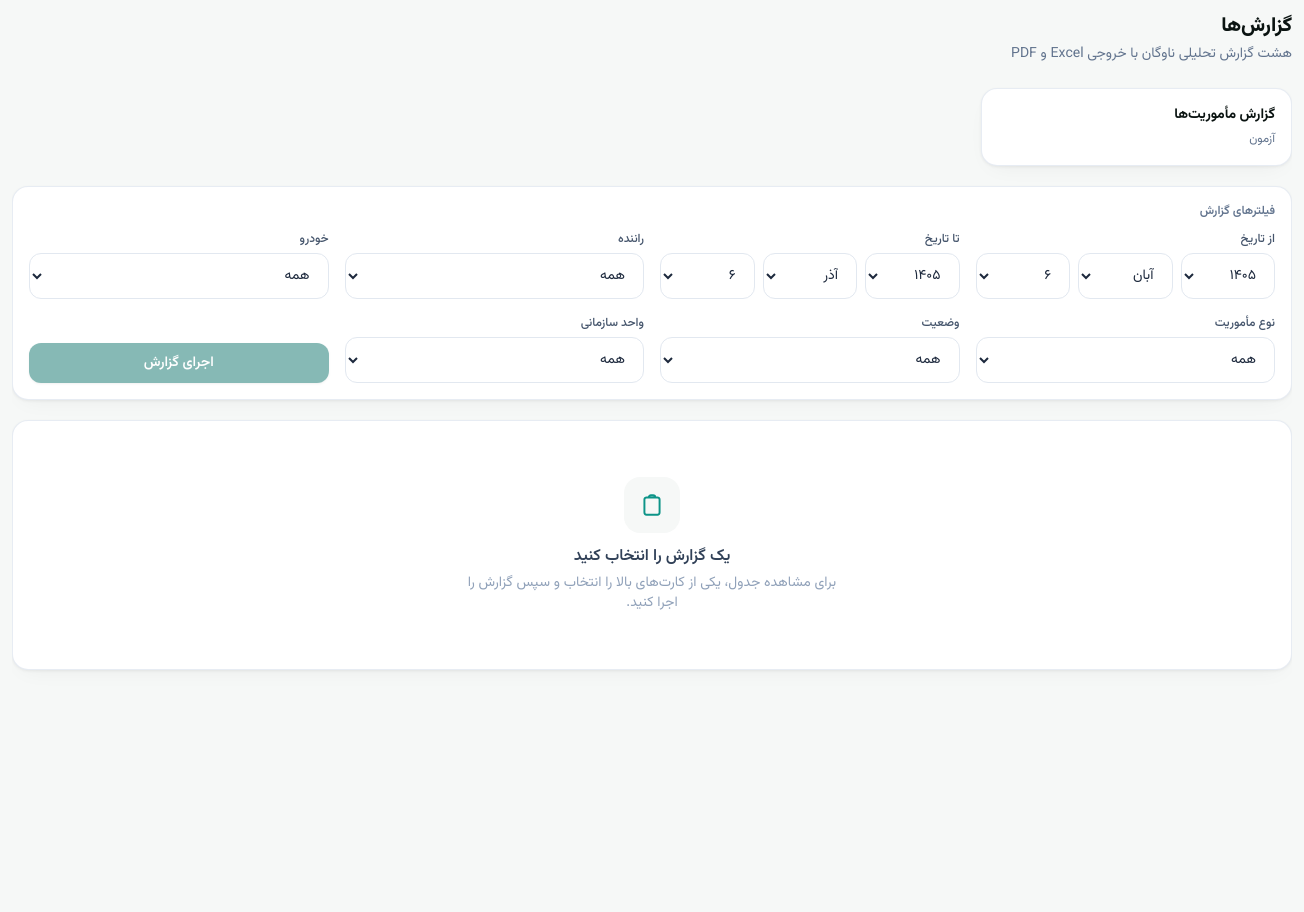
Scenario: Stage 10 date and search contracts › sends the next Tehran midnight as the exclusive report upper bound and shows truncation
The image size is (1304, 912).
Click the button "گزارش مأموریت‌ها آزمون" at (1225, 115), box [981,88,1292,166]
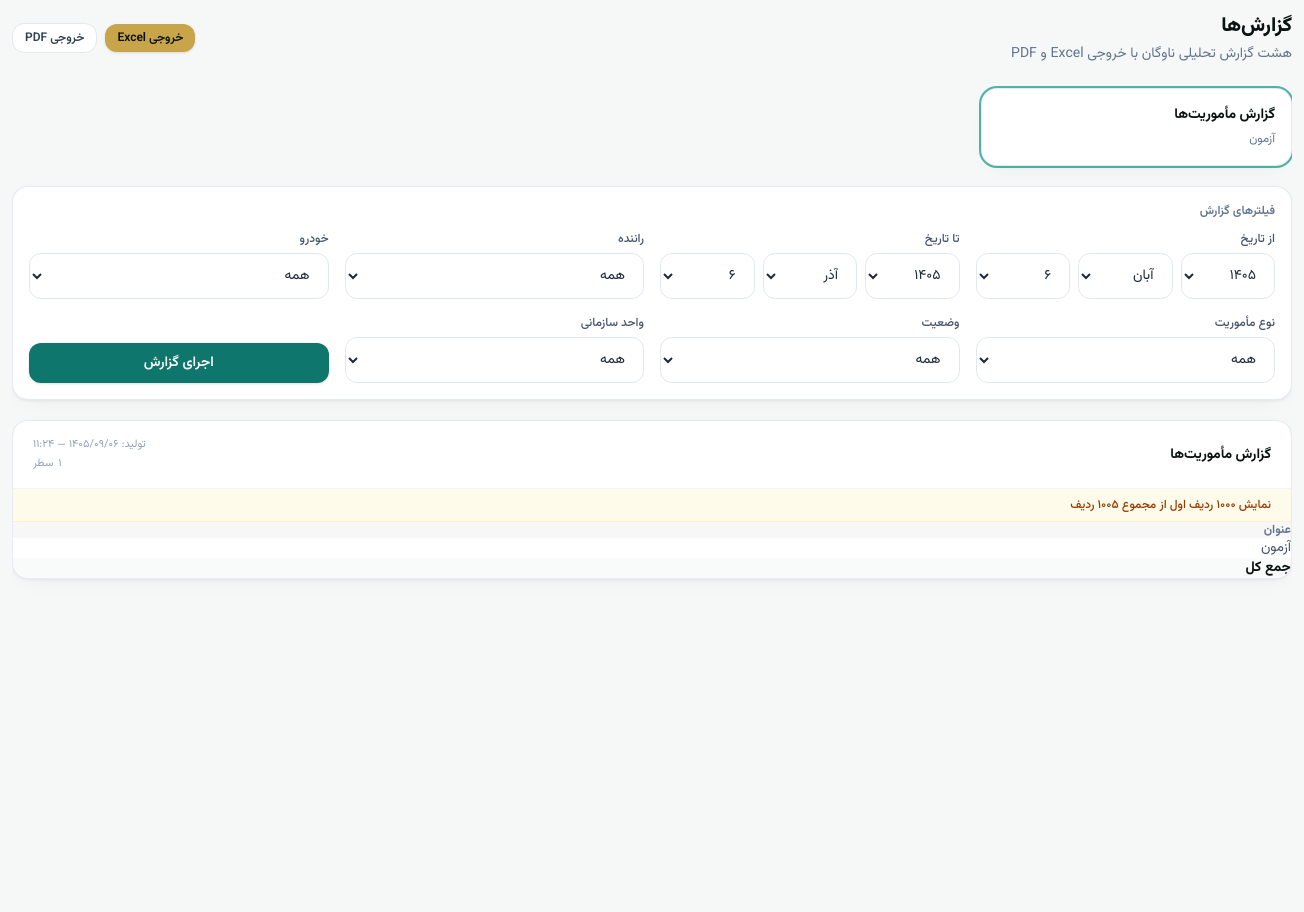
Result: the text "نمایش ۱۰۰۰ ردیف اول از مجموع ۱۰۰۵ ردیف" is shown at [13,489,1291,522]
